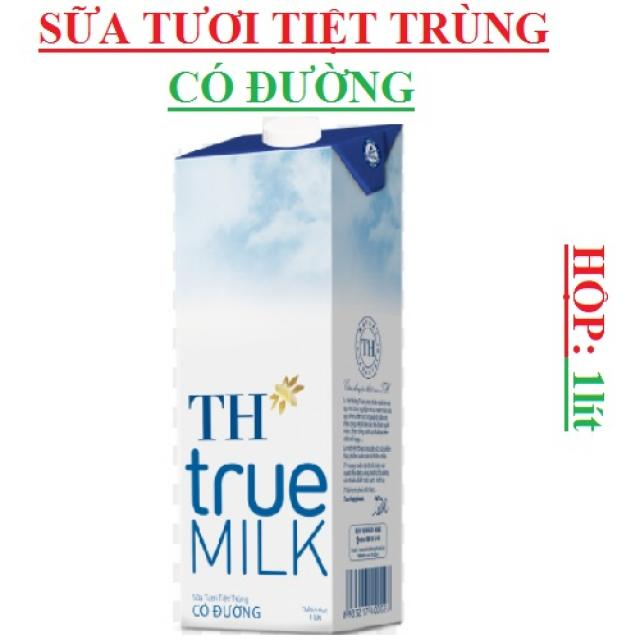non_white_jug: (172, 114, 407, 640)
